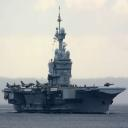Portanaves: (3, 7, 128, 116)
